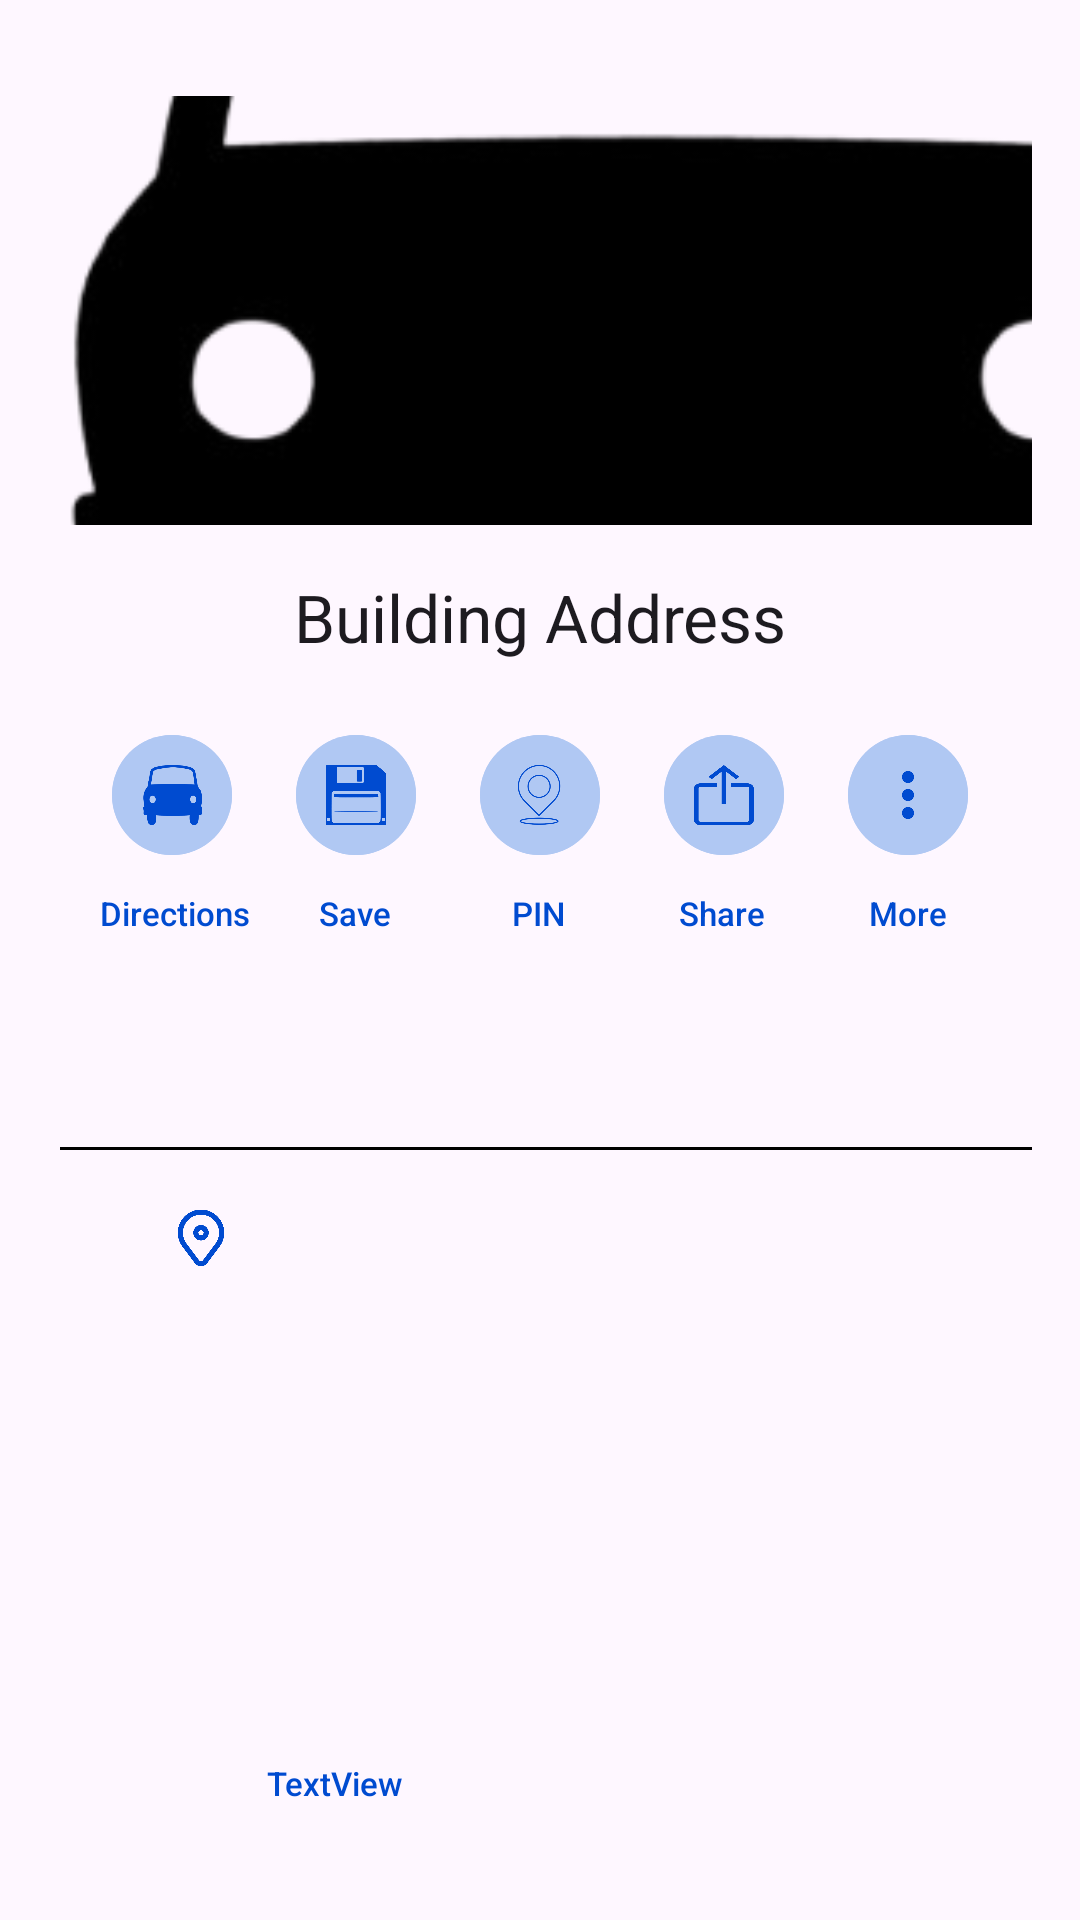

Where icons sit on this 1080 × 1920 app screen, as region(x1, y1, x2, y2):
floppy disk: region(296, 735, 416, 855)
three dots: region(848, 735, 968, 855)
